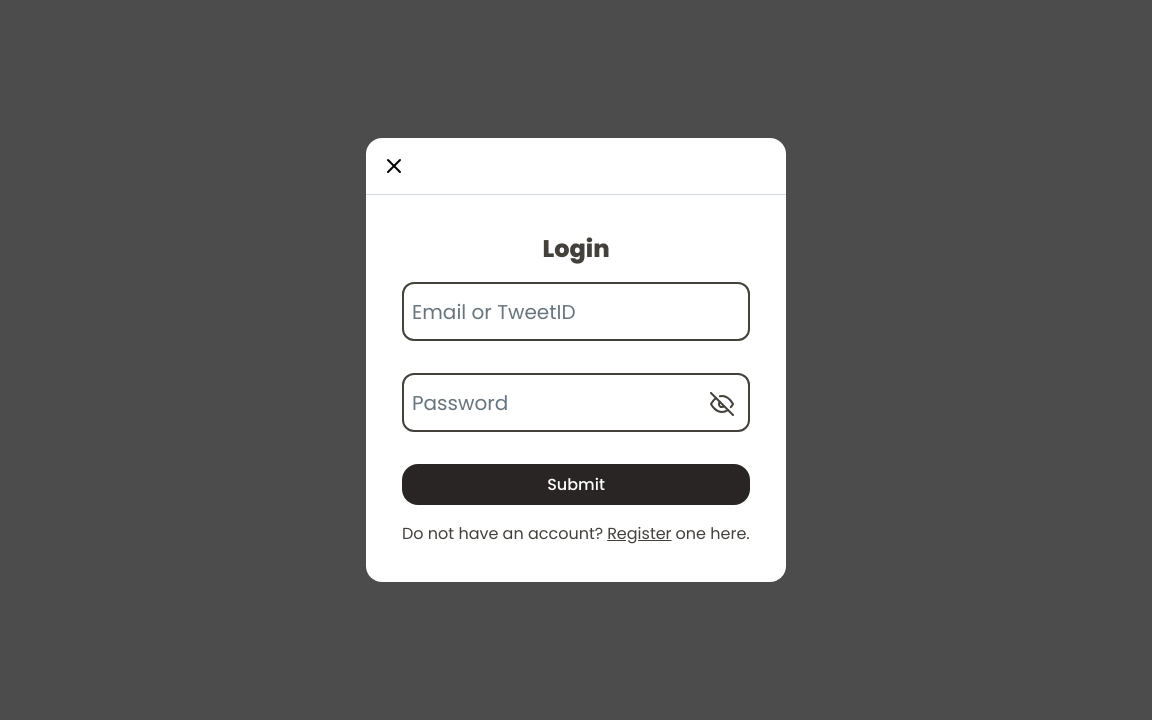
it: valid but not in database › user does not exist
This screenshot has width=1152, height=720.
In the field labelled "Email or TweetID": (576, 312) [402, 282, 750, 341], type "random text"
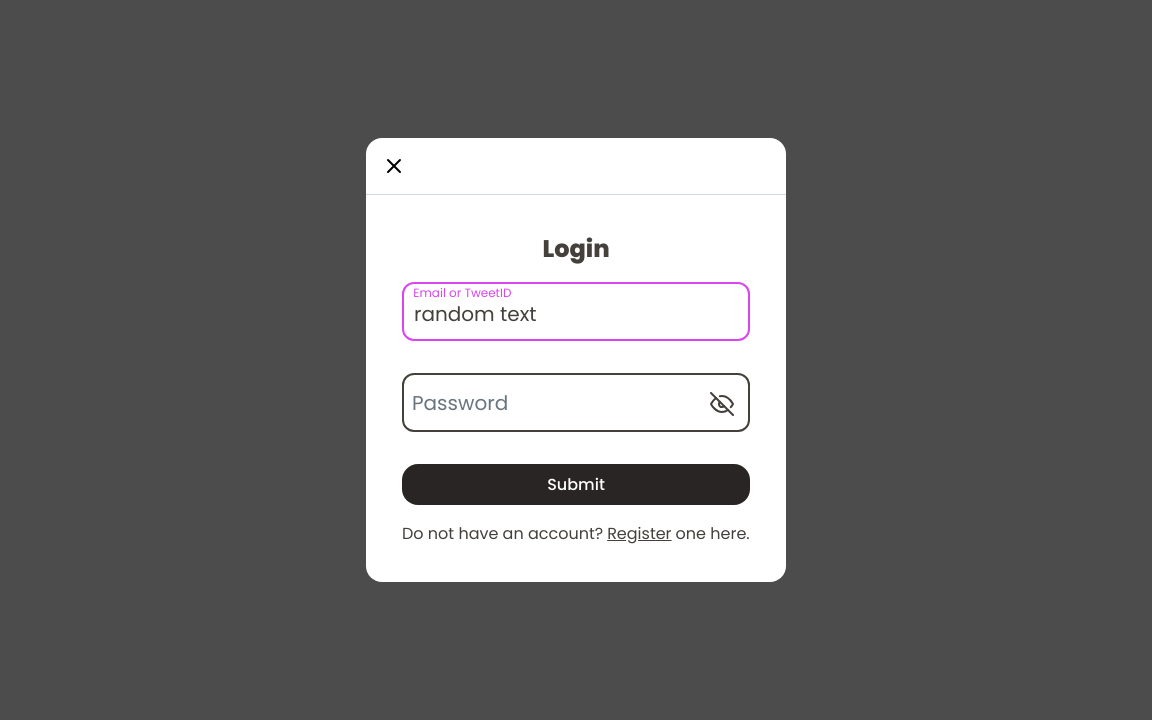
In the password field labelled "Password": (576, 402) [402, 373, 750, 432], type "random password"
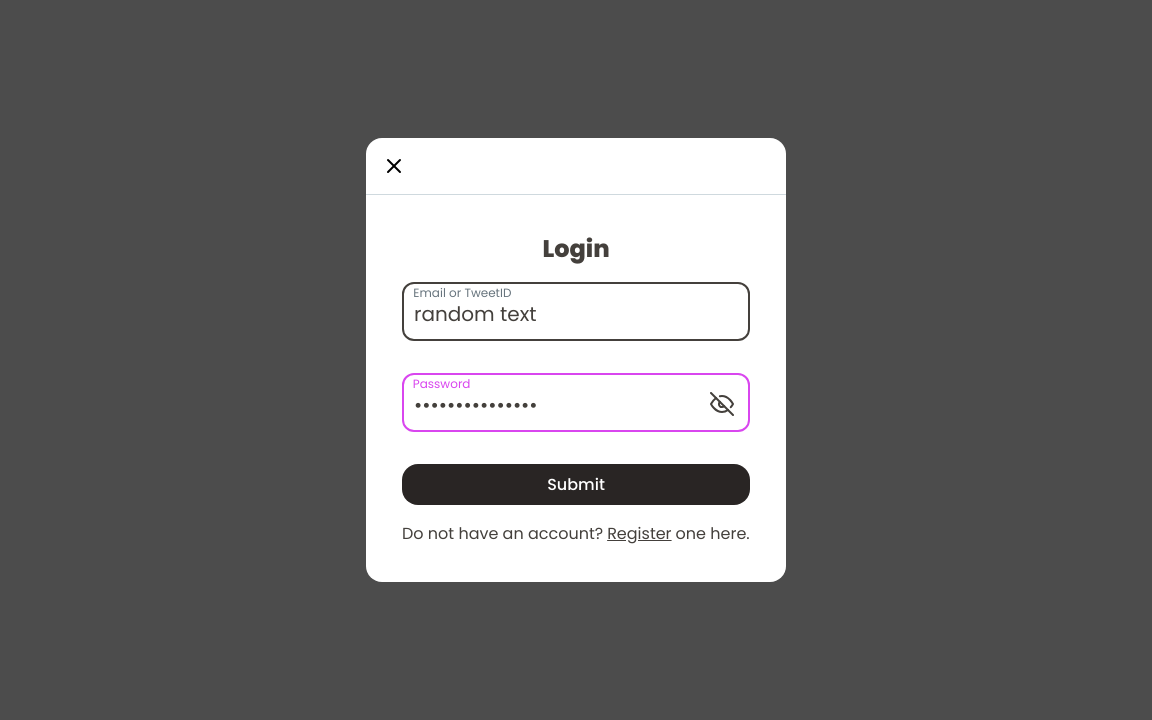
Click the button "Submit": (576, 484) [402, 464, 750, 505]
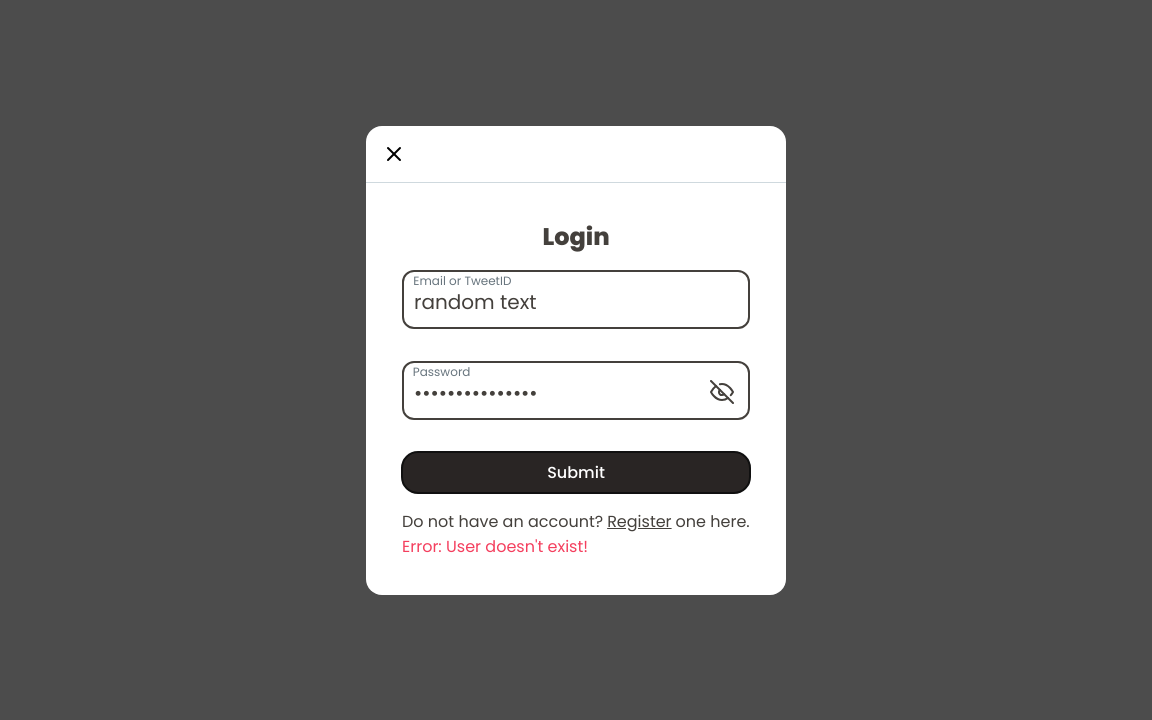
Now the text "Error: User doesn't exist!" is shown, box [402, 534, 588, 558]
